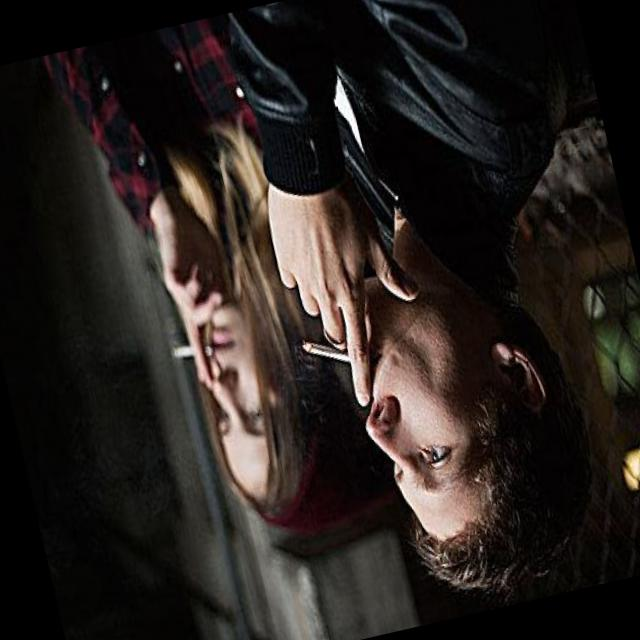cigarette: (298, 326, 359, 371), (170, 337, 207, 363)
